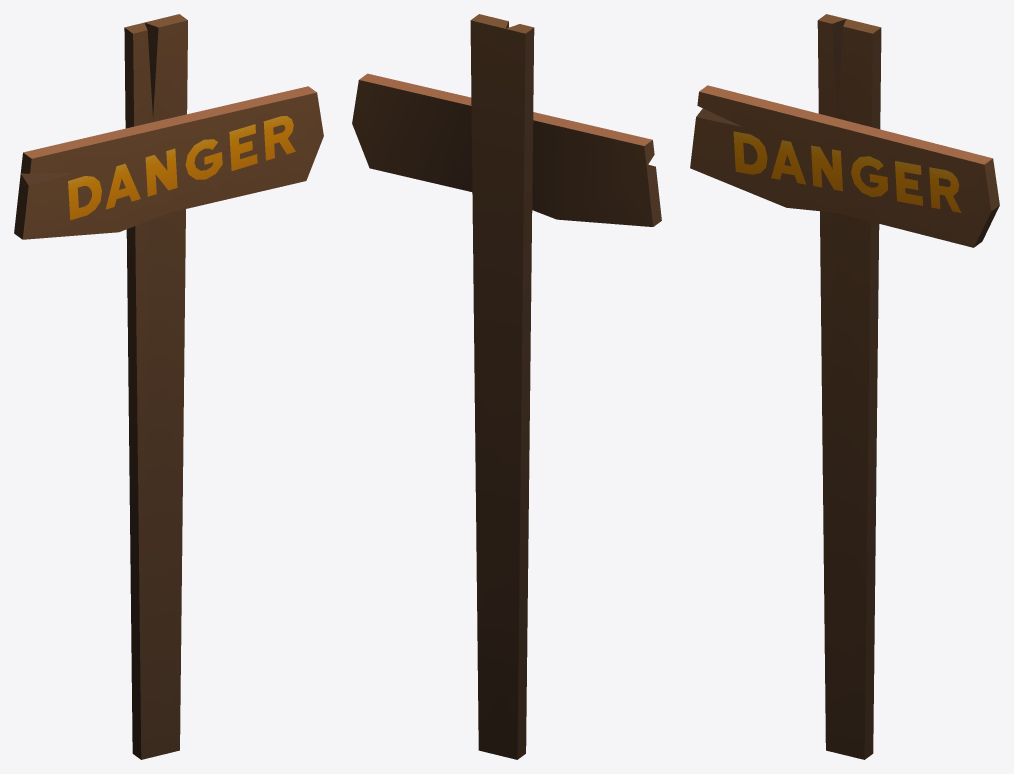
File: Signpost_1A.fbx
3 views of the same model, side by side, from view 1: azimuth 30°, elevation 25°; view 2: azimuth 150°, elevation 25°; view 3: azimuth 330°, elevation 25° (orthographic).
Parts seen in each view (by area): view 1: Signpost_1A; view 2: Signpost_1A; view 3: Signpost_1A.
Boxes of the visible parts, <box> form: Signpost_1A: <box>14,14,323,759</box>; Signpost_1A: <box>352,14,661,759</box>; Signpost_1A: <box>690,14,999,759</box>.
Size of the model in its own units: 101 by 232 by 10.54.
